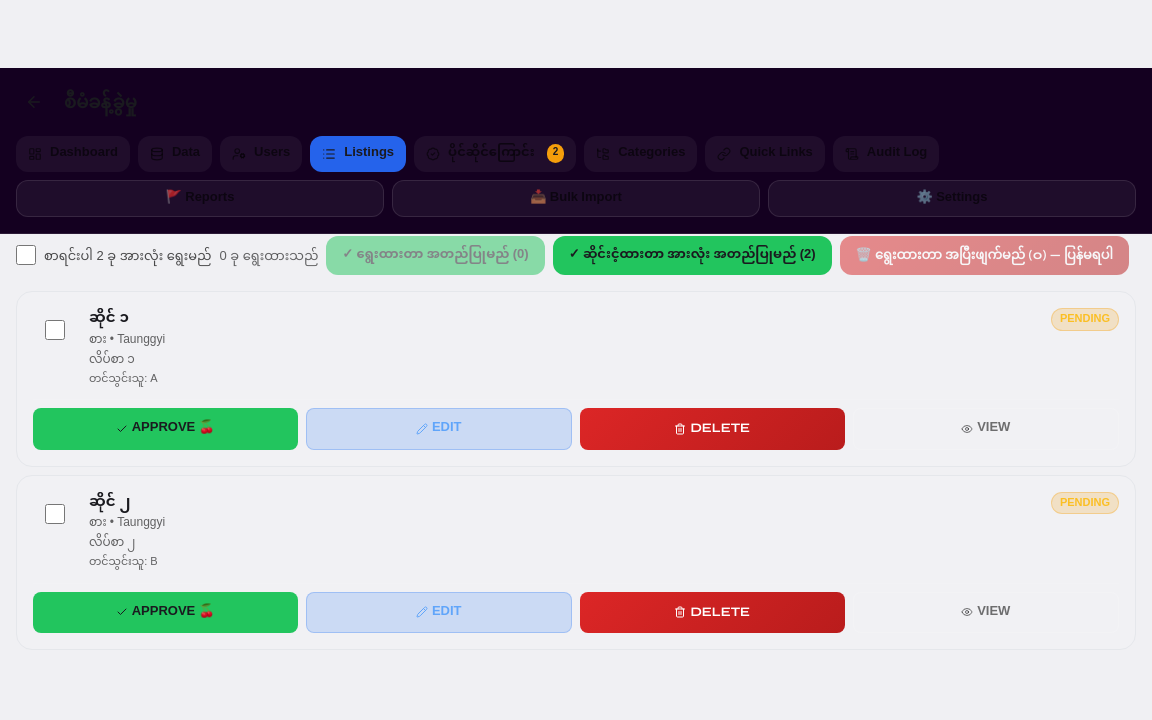
v9.28 bulk approve: Admin listings tab › Approve selected: only checked rows approved, succeeded ids cleared from selection
expect the text "ဆိုင် ၁" is shown: met, box [89, 302, 129, 335]
expect the text "ဆိုင် ၂" is shown: met, box [89, 486, 130, 518]
Click the checkbox next to "ဆိုင် ၁" at (55, 330), box [45, 320, 65, 340]
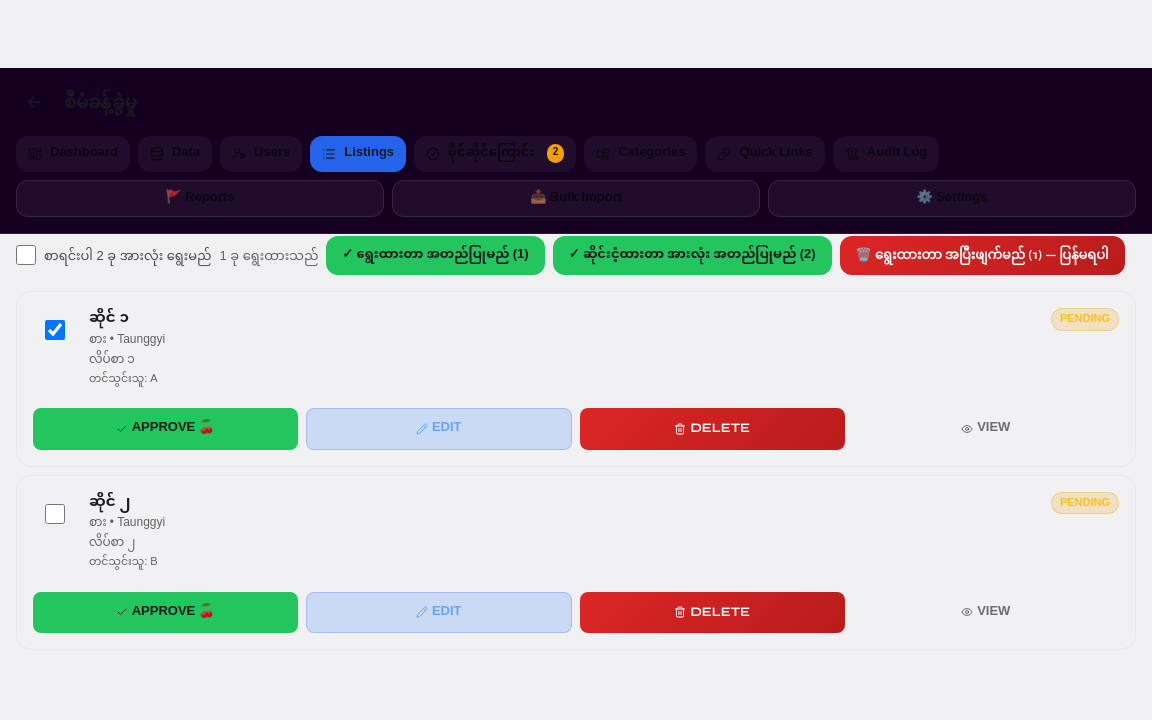
expect the text "1 ခု ရွေးထားသည်" is shown: met, box [220, 244, 318, 267]
Click the button "✓ ရွေးထားတာ အတည်ပြုမည် (1)" at (435, 255), box [326, 236, 545, 275]
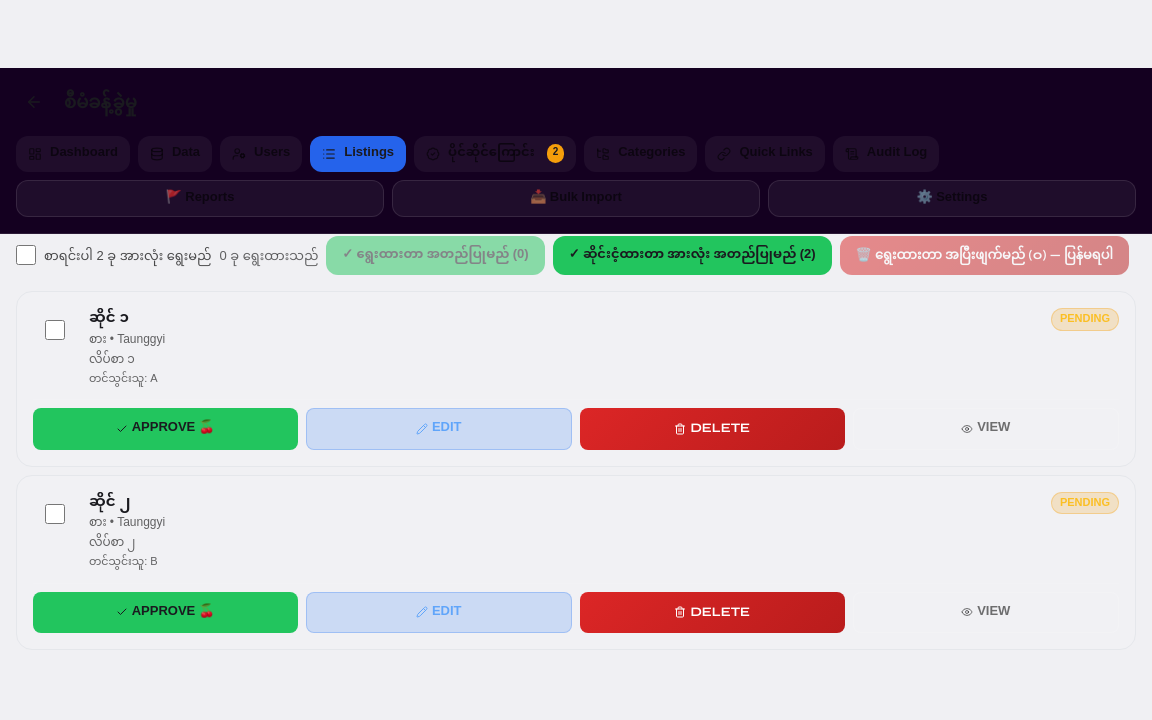
expect the text "0 ခု ရွေးထားသည်" is shown: met, box [220, 244, 318, 267]
